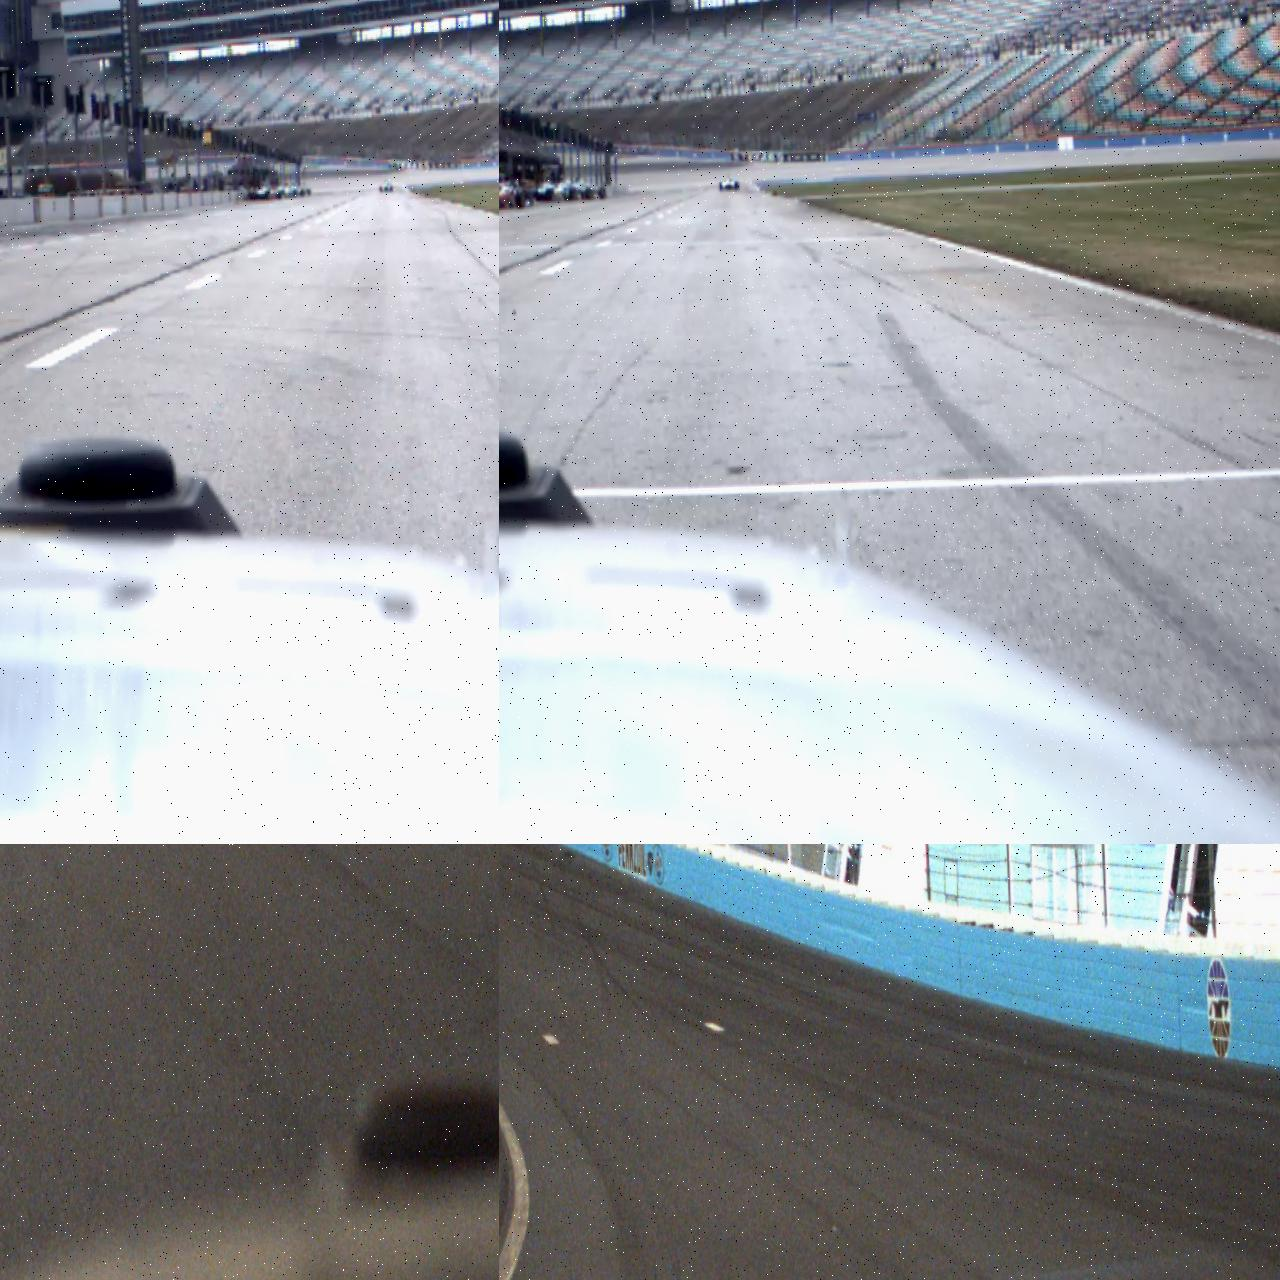AV: (499, 173, 532, 211), (719, 173, 738, 191), (379, 181, 394, 192)
Wheel: (515, 192, 524, 209), (545, 188, 553, 202), (598, 186, 606, 199), (585, 188, 593, 200), (568, 186, 576, 200), (719, 182, 722, 191), (735, 182, 738, 191)
